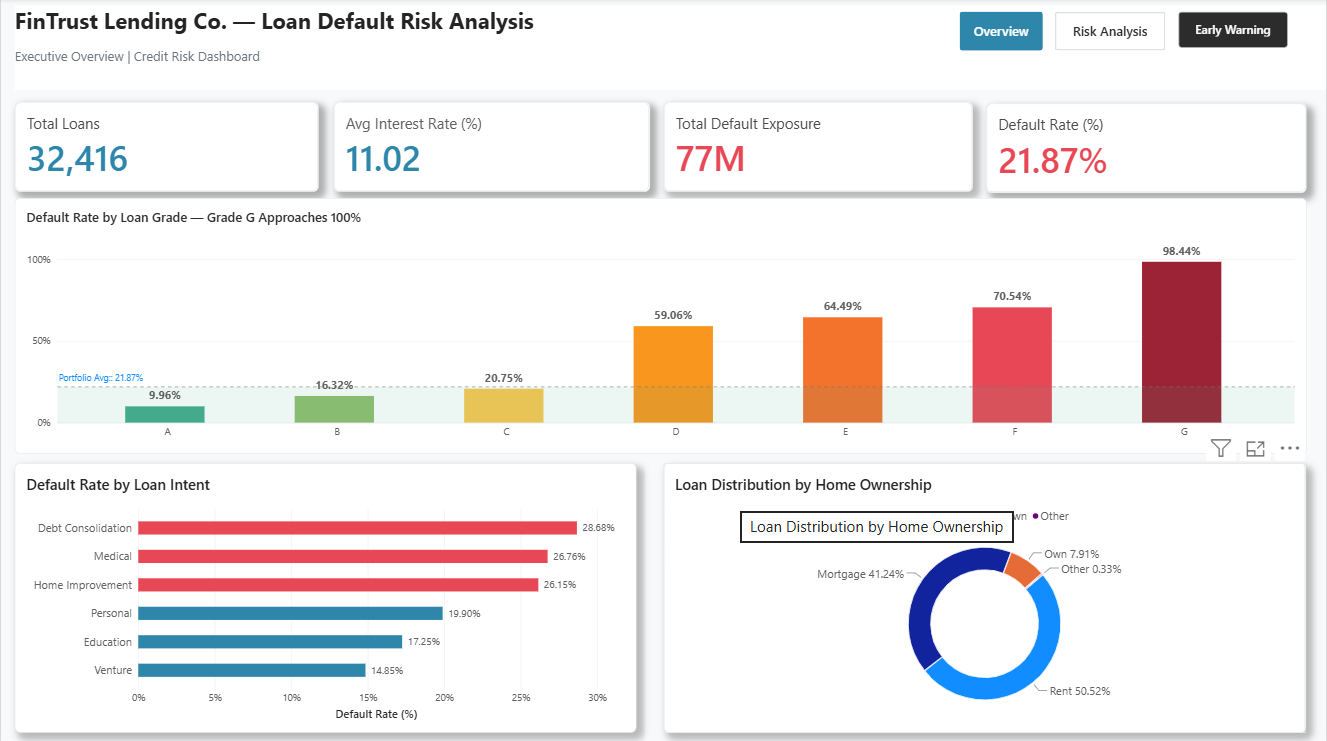

Layout of this report page (visuals, bound fields, positions):
{"tool":"powerbi","page":{"name":"Executive Overview","canvas":[1920,1080],"ordinal":0},"visuals":[{"type":"textbox","box":[20,10,1900,122],"z":0},{"type":"cardVisual","fields":{"Data":["credit_risk_cleaned.Total Loans"]},"box":[20,150,440,130],"z":1000},{"type":"cardVisual","fields":{"Data":["credit_risk_cleaned.Default Rate"]},"box":[1426,152,464,130],"z":2000},{"type":"cardVisual","fields":{"Data":["credit_risk_cleaned.Total Default Exposure"]},"box":[960,150,448,130],"z":3000},{"type":"cardVisual","fields":{"Data":["credit_risk_cleaned.Avg Interest Rate"]},"box":[482,150,458,130],"z":4000},{"type":"clusteredColumnChart","title":"Default Rate by Loan Grade — Grade G Approaches 100%","fields":{"Category":["credit_risk_cleaned.loan_grade"],"Y":["credit_risk_cleaned.Default Rate(%)"]},"box":[20,290,1870,370],"z":5000},{"type":"clusteredBarChart","title":"Default Rate by Loan Intent","fields":{"Category":["credit_risk_cleaned.loan_intent_display"],"Y":["credit_risk_cleaned.Default Rate(%)"]},"box":[20,674,900,390],"z":6000},{"type":"donutChart","title":"Loan Distribution by Home Ownership ","fields":{"Category":["credit_risk_cleaned.ownership_display"],"Y":["credit_risk_cleaned.Total Loans"]},"box":[960,674,930,390],"z":7000},{"type":"actionButton","box":[1388,20,120,56],"z":8000},{"type":"actionButton","box":[1526,20,160,56],"z":9000},{"type":"actionButton","box":[1704,20,158,52],"z":10000}]}

Visuals, with their boxes in screenshot pixels (x1, y1, x2, y2), scaled from the page's 1920x1080 canvas onto the 1327x741 screenshot:
textbox: [14,7,1326,91]
cardVisual - credit_risk_cleaned.Total Loans: [14,103,318,192]
cardVisual - credit_risk_cleaned.Default Rate: [986,104,1306,193]
cardVisual - credit_risk_cleaned.Total Default Exposure: [664,103,973,192]
cardVisual - credit_risk_cleaned.Avg Interest Rate: [333,103,650,192]
"Default Rate by Loan Grade — Grade G Approaches 100%" clusteredColumnChart: [14,199,1306,453]
"Default Rate by Loan Intent" clusteredBarChart: [14,462,636,730]
"Loan Distribution by Home Ownership " donutChart: [664,462,1306,730]
actionButton: [959,14,1042,52]
actionButton: [1055,14,1165,52]
actionButton: [1178,14,1287,49]
